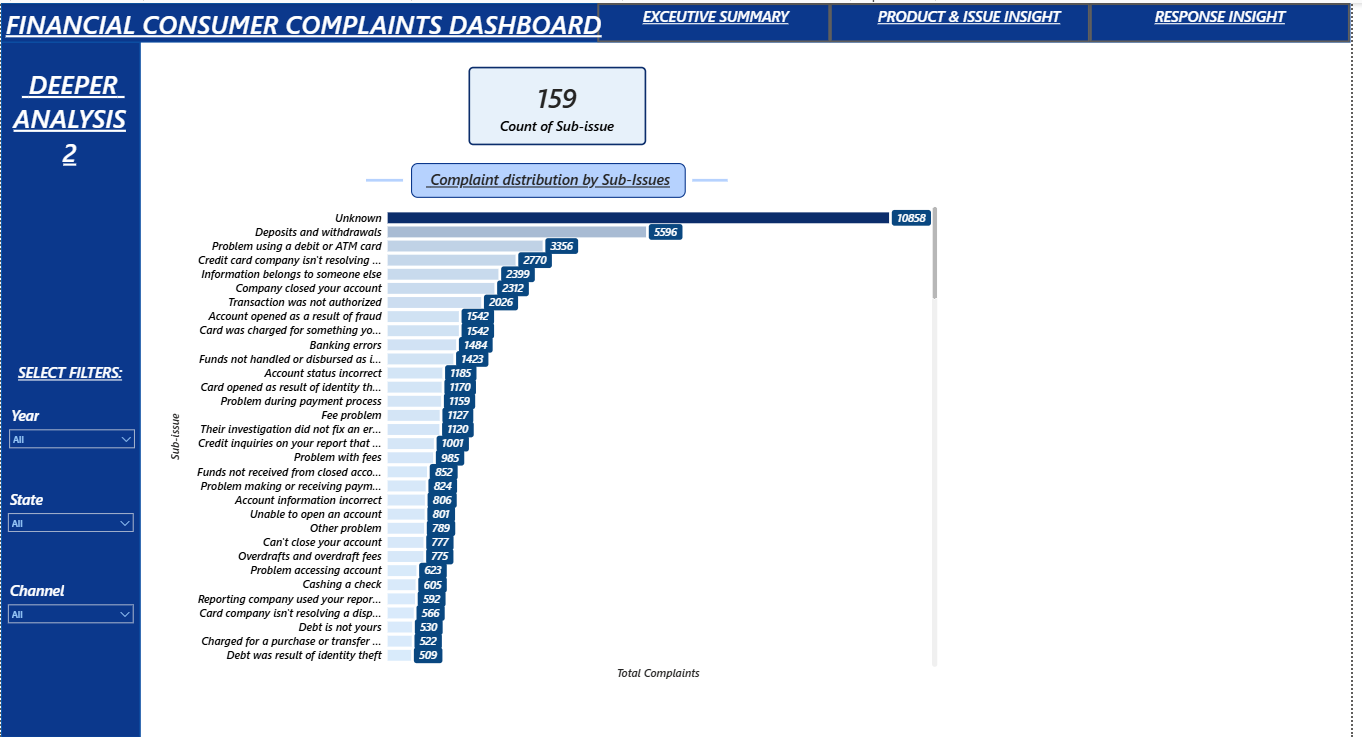

What the dashboard file says about the page in this screenshot:
{"tool":"powerbi","page":{"name":"Deeper Analysis 2","canvas":[1980,1080],"ordinal":4},"visuals":[{"type":"actionButton","box":[874.9,0,342,57.9],"z":0,"group":"g4"},{"type":"actionButton","box":[1216.1,0,381.8,57.9],"z":0,"group":"g3"},{"type":"actionButton","box":[1597.9,0,381.8,57.9],"z":0,"group":"g2"},{"type":"textbox","box":[601.8,234.8,402.9,51],"z":0,"group":"g1"},{"type":"clusteredBarChart","fields":{"Y":["CountNonNull(fact_complaint.Complaint ID)"],"Category":["dim_issue.Sub-issue"]},"box":[244,286.1,1135.4,711.7],"z":0},{"type":"textbox","box":[929.4,0,237.1,57.9],"z":1000,"group":"g4"},{"type":"textbox","box":[1268.7,0,302.2,57.9],"z":1000,"group":"g3"},{"type":"textbox","box":[1648.7,0,278.7,57.9],"z":1000,"group":"g2"},{"type":"card","fields":{"Values":["Count(dim_issue.Sub-issue)"]},"box":[686,93.5,260.5,115.6],"z":1000},{"type":"shape","box":[535.6,239.6,54.4,39.7],"z":1000,"group":"g1"},{"type":"shape","box":[0,57.5,204.5,1022.5],"z":2000},{"type":"shape","box":[1013.8,240,52.1,39.7],"z":2000,"group":"g1"},{"type":"shape","box":[0,0,1979.8,57.9],"z":3000},{"type":"group","id":"g1","title":"Group 1","box":[535.6,234.8,530.1,51.4],"z":5000},{"type":"textbox","box":[0,71.5,201.8,231.1],"z":6000},{"type":"slicer","fields":{"Values":["dim_date.Year"]},"box":[1.8,584.5,204.5,70.6],"z":7000},{"type":"slicer","fields":{"Values":["dim_location.State"]},"box":[0,707.6,204.5,70.6],"z":8000},{"type":"slicer","fields":{"Values":["dim_channel.Submitted via"]},"box":[0,841.5,204.5,70.6],"z":9000},{"type":"textbox","box":[0,523,202.7,45.2],"z":10000},{"type":"group","id":"g2","title":"Group 5","box":[1597.9,0,381.8,57.9],"z":11000},{"type":"group","id":"g3","title":"Group 5","box":[1216.1,0,381.5,58.7],"z":12000},{"type":"group","id":"g4","title":"Group 4","box":[874.9,0,341.2,58.7],"z":13000},{"type":"textbox","box":[1.8,0,902.5,71.5],"z":13001}]}

Visuals, with their boxes in screenshot pixels (x1, y1, x2, y2), scaled from the page's 1980x1080 canvas onto the 1362x737 screenshot:
actionButton: box=[602, 0, 837, 40]
actionButton: box=[837, 0, 1099, 40]
actionButton: box=[1099, 0, 1361, 40]
textbox: box=[414, 160, 691, 195]
clusteredBarChart - CountNonNull(fact_complaint.Complaint ID) x dim_issue.Sub-issue: box=[168, 195, 949, 681]
textbox: box=[639, 0, 802, 40]
textbox: box=[873, 0, 1081, 40]
textbox: box=[1134, 0, 1326, 40]
card - Count(dim_issue.Sub-issue): box=[472, 64, 651, 143]
shape: box=[368, 164, 406, 191]
shape: box=[0, 39, 141, 736]
shape: box=[697, 164, 733, 191]
shape: box=[0, 0, 1361, 40]
"Group 1" group: box=[368, 160, 733, 195]
textbox: box=[0, 49, 139, 206]
slicer - dim_date.Year: box=[1, 399, 142, 447]
slicer - dim_location.State: box=[0, 483, 141, 531]
slicer - dim_channel.Submitted via: box=[0, 574, 141, 622]
textbox: box=[0, 357, 139, 388]
"Group 5" group: box=[1099, 0, 1361, 40]
"Group 5" group: box=[837, 0, 1099, 40]
"Group 4" group: box=[602, 0, 837, 40]
textbox: box=[1, 0, 622, 49]
